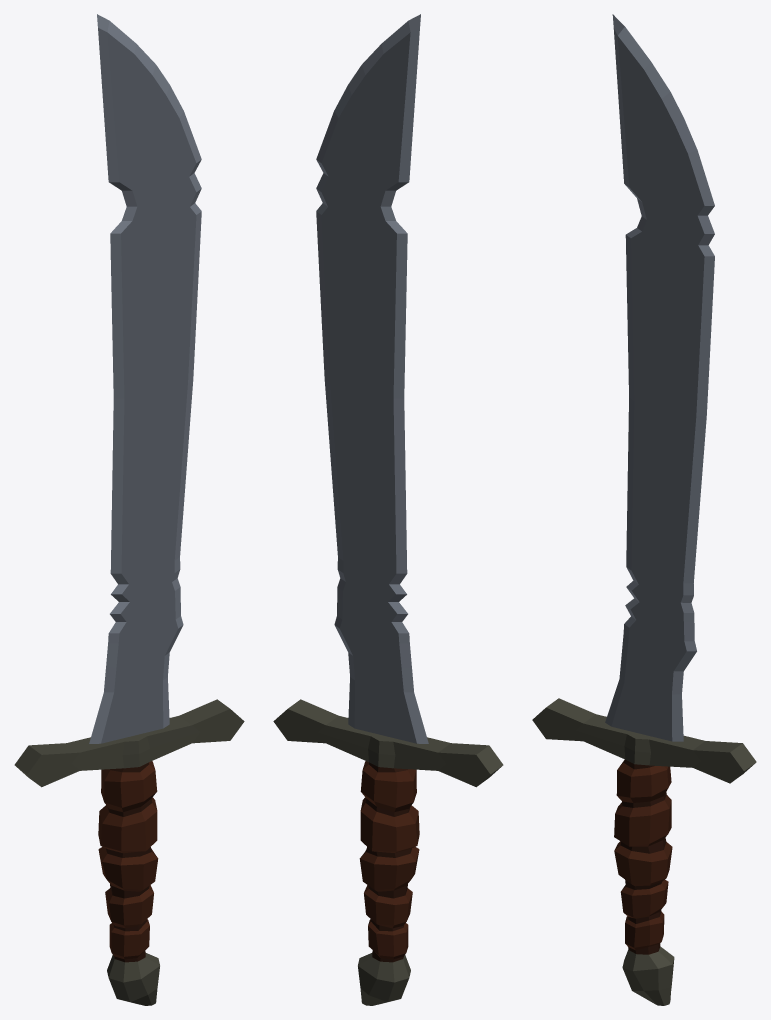
Rendered from Sword_2.glb.
3 views of the same model, side by side, from view 1: azimuth 30°, elevation 25°; view 2: azimuth 150°, elevation 25°; view 3: azimuth 330°, elevation 25° (orthographic). The views are drawn at different scales.
Parts seen in each view (by area): view 1: Sword_2; view 2: Sword_2; view 3: Sword_2.
Boxes of the visible parts, box(x1,y1,x2,y2) form: Sword_2: box(14, 14, 244, 1005); Sword_2: box(273, 14, 503, 1005); Sword_2: box(532, 14, 756, 1005).
Bounding box in the file's own units: 0.2271 × 1 × 0.0579.
